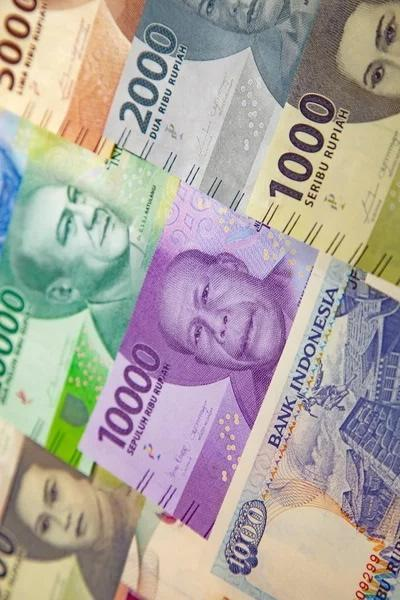1000IndonesianRupiah: (244, 0, 400, 281)
